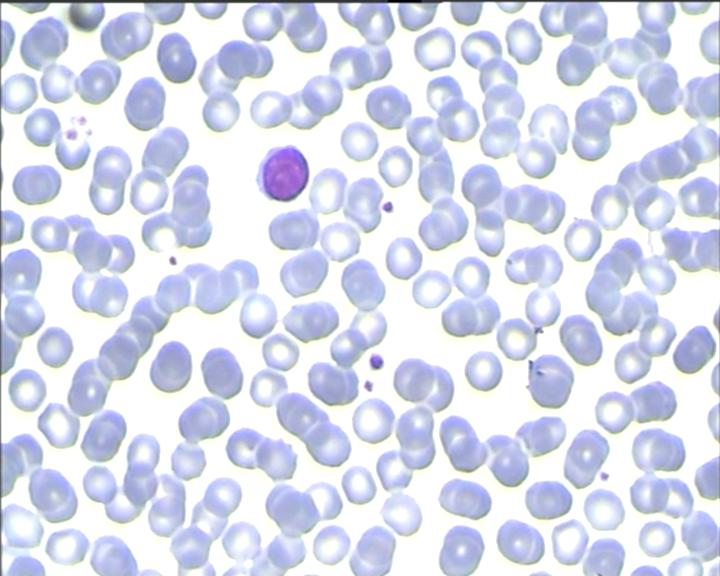lymp: (254, 142, 311, 207)
